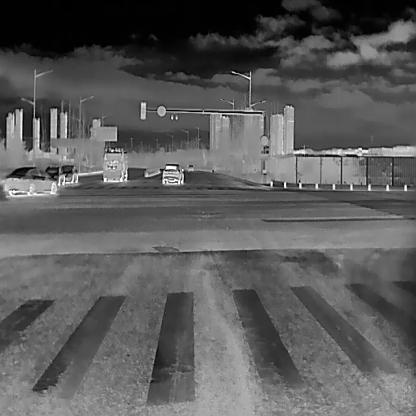car: (1, 165, 57, 197), (161, 162, 183, 184), (44, 165, 64, 186), (60, 164, 77, 183), (186, 163, 194, 171)
truck: (101, 146, 128, 181)
